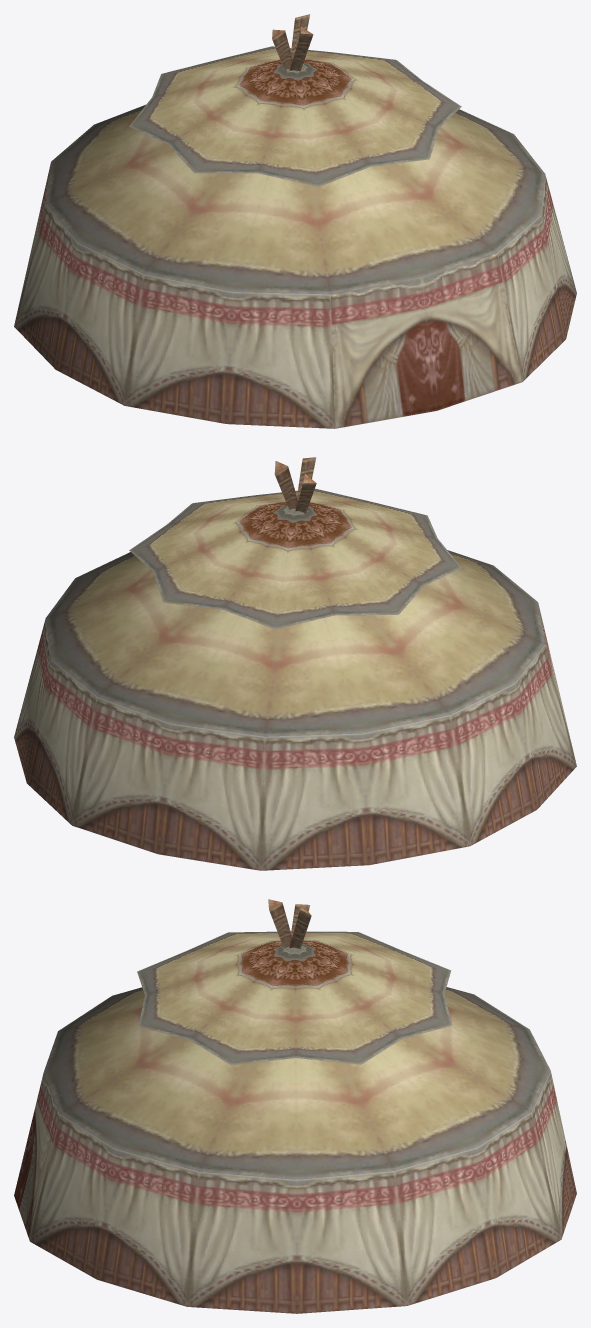
3 views of the same model, one above another, from view 1: azimuth 30°, elevation 25°; view 2: azimuth 150°, elevation 25°; view 3: azimuth 270°, elevation 25° (orthographic).
Parts seen in each view (by area): view 1: zp01_R; view 2: zp01_R; view 3: zp01_R.
Boxes of the visible parts, x1=… form: zp01_R: x1=14, y1=14, x2=576, y2=428; zp01_R: x1=14, y1=457, x2=576, y2=870; zp01_R: x1=14, y1=899, x2=576, y2=1313.
Size of the model in its own units: 6.55 by 3.75 by 6.53.
